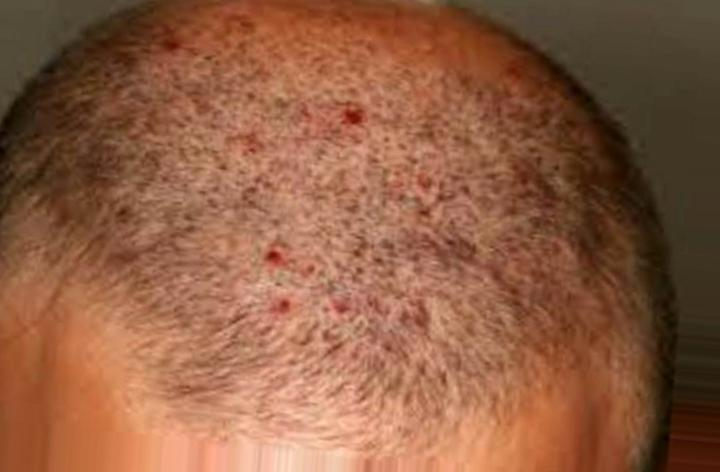Folliculitis: (333, 93, 372, 137), (262, 293, 303, 321), (260, 245, 297, 268)
